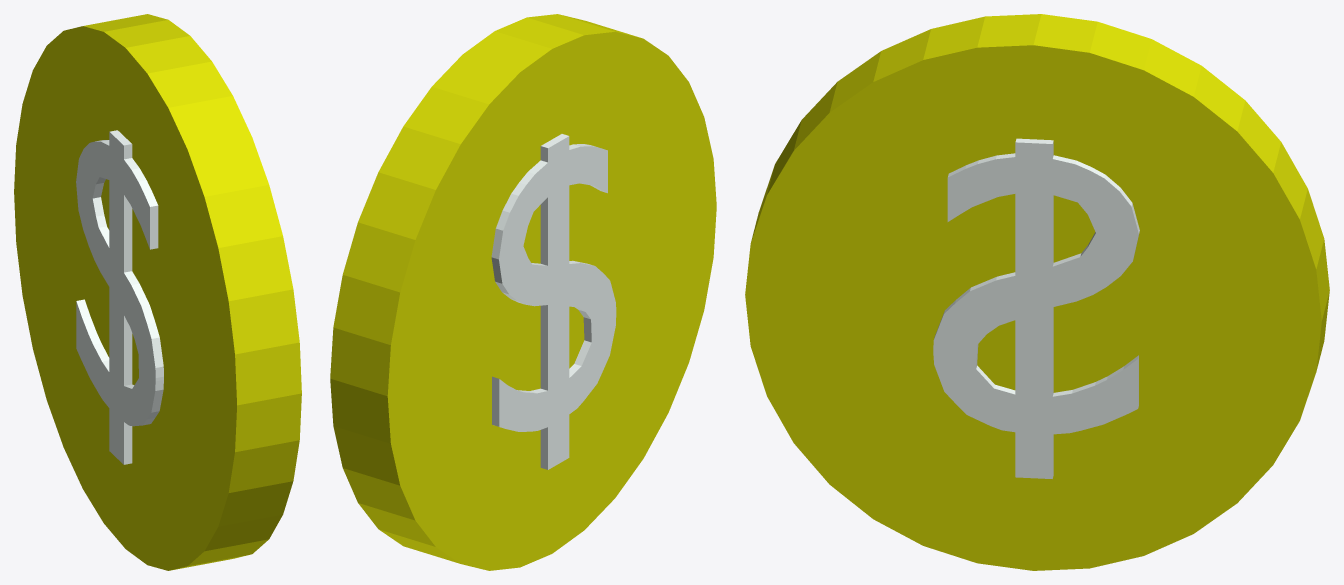
File: Coin.fbx
3 views of the same model, side by side, from view 1: azimuth 30°, elevation 25°; view 2: azimuth 150°, elevation 25°; view 3: azimuth 270°, elevation 25° (orthographic). The views are drawn at different scales.
Parts seen in each view (by area): view 1: Cylinder; view 2: Cylinder; view 3: Cylinder.
Boxes of the visible parts, bbox=[...] form: Cylinder: bbox=[14, 14, 301, 570]; Cylinder: bbox=[330, 14, 716, 570]; Cylinder: bbox=[745, 14, 1329, 570].
Bounding box in the file's own units: 47.08 × 200 × 202.
